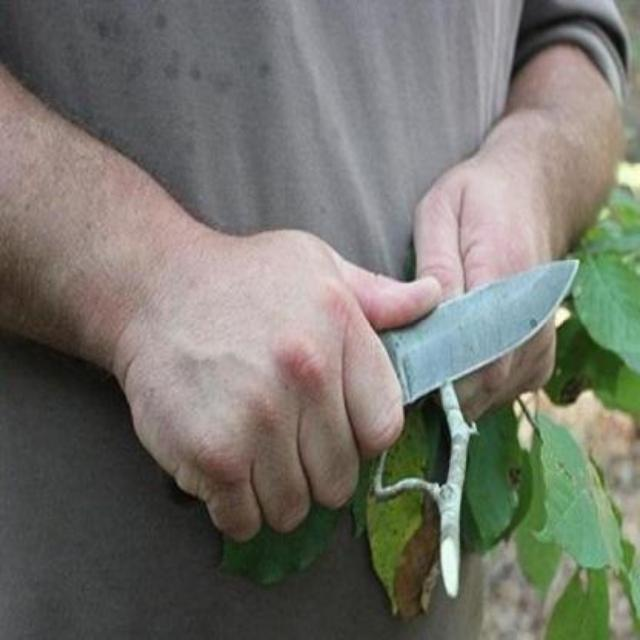Knife: (379, 260, 579, 404)
